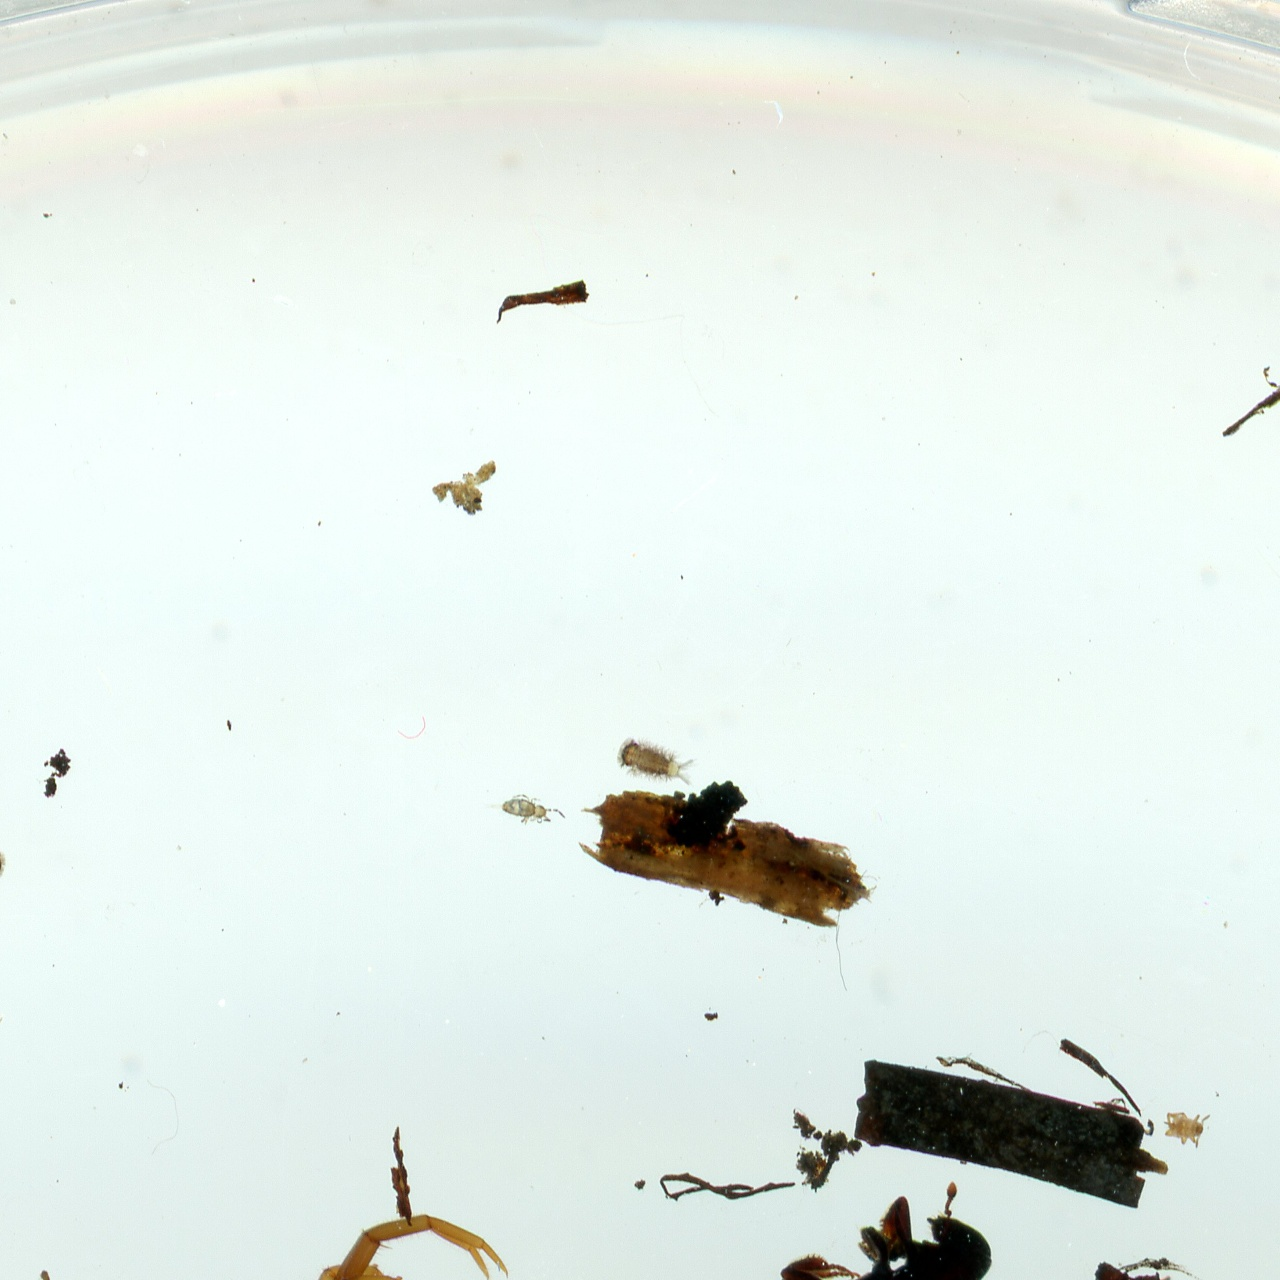arthropod: (774, 1180, 982, 1280), (617, 730, 700, 785), (496, 790, 570, 830), (1156, 1108, 1212, 1150)
